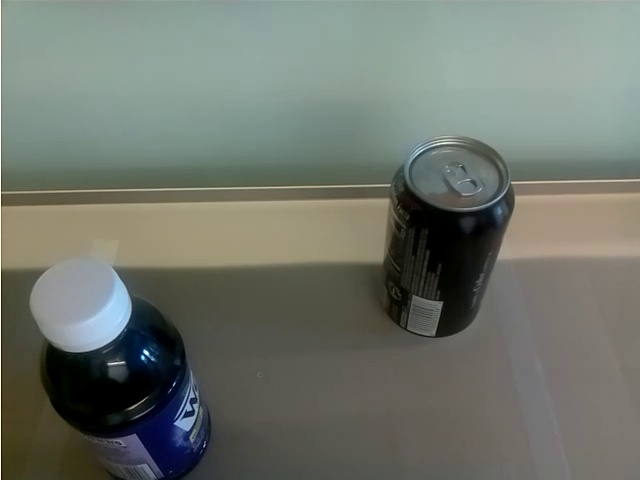cocacola-zero: (380, 134, 517, 340)
juice: (25, 251, 214, 480)
